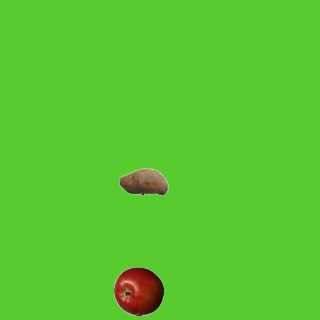Apple Braeburn: (113, 266, 163, 316)
Potato Sweet: (118, 156, 168, 206)
